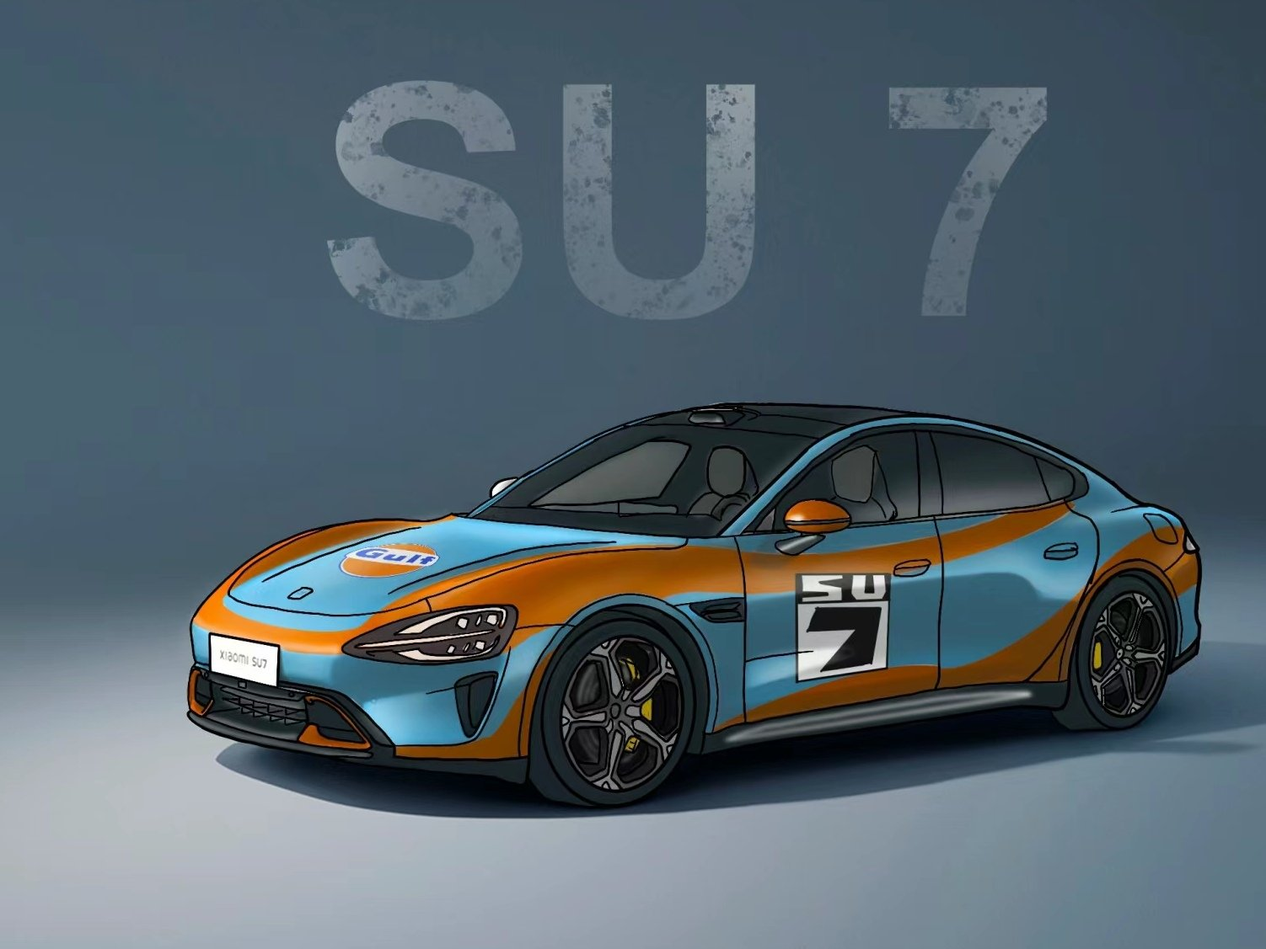su7: (186, 397, 1203, 809)
